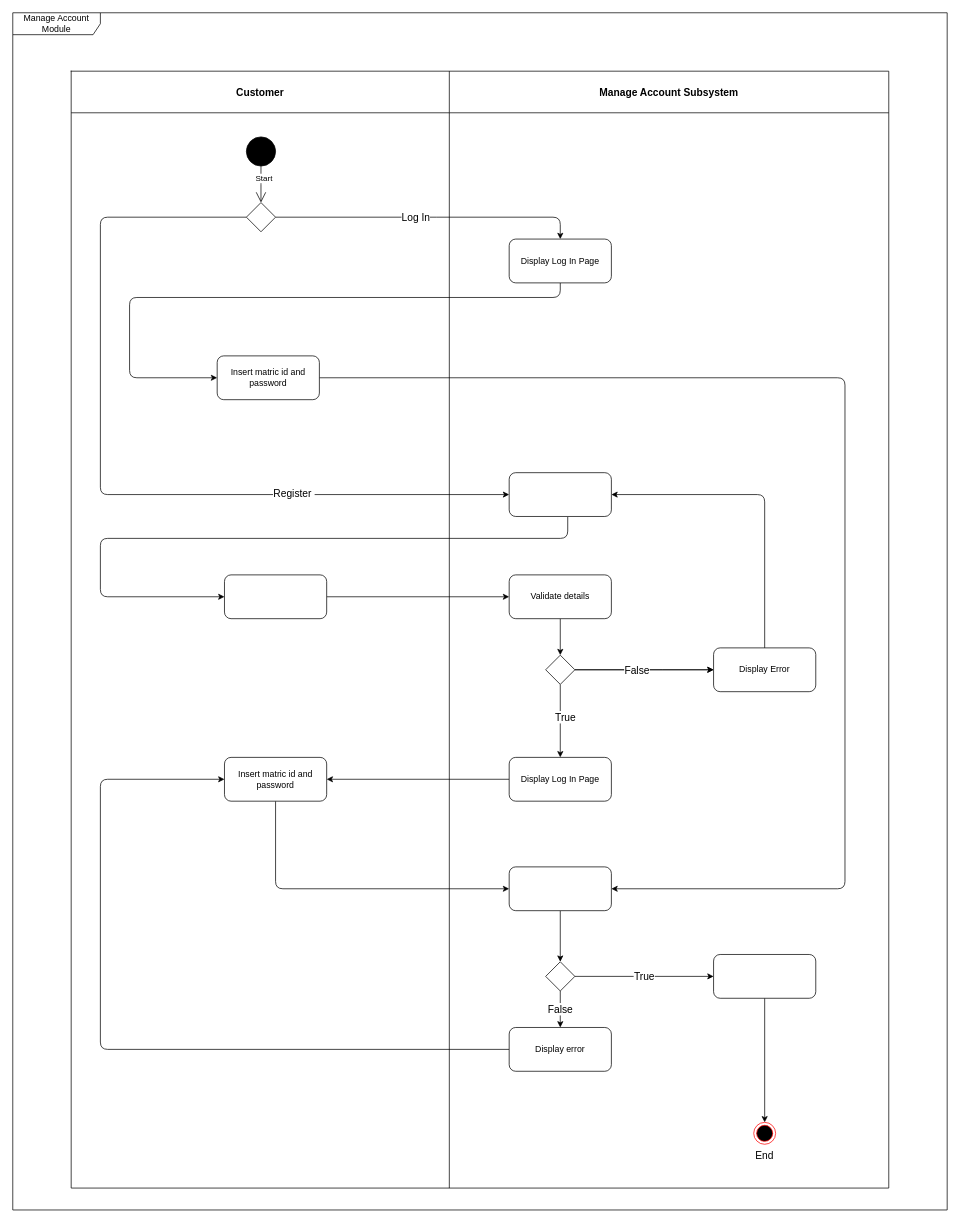
Some shapes in this 960 by 1223 pixel diagram are drawn without their labels. Each missing label, with the centre of its shape:
"Display Register Form" goes at pixel 559 494.
"Enter user details" goes at pixel 275 596.
"Redirect to Home Page" goes at pixel 764 976.
"Verify user" goes at pixel 559 888.
